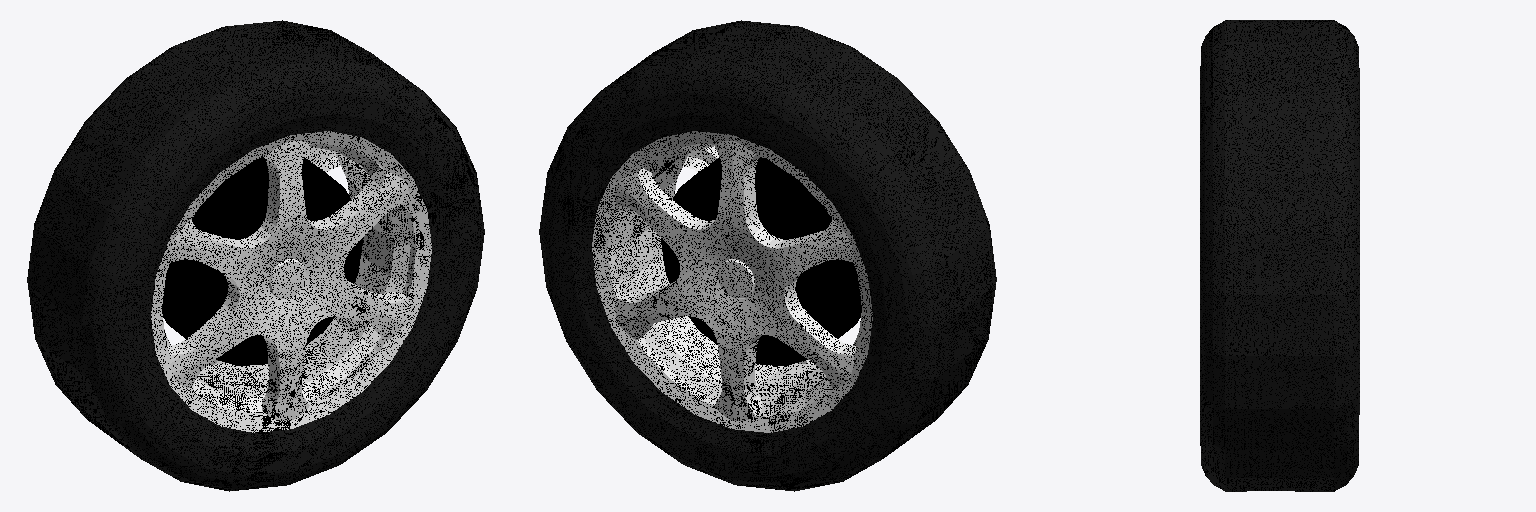
The robot description file, URDF, robot "G35":
<?xml version="1.0"?>
<robot name="G35">
  <!-- Base footprint (point on the ground directly below CG) -->
  <link name="base_footprint">
    <visual>
      <origin xyz="0 0 0" rpy="0 0 0"/>
      <geometry>
        <mesh filename="package://vehicle_model_pkg/description/body_2004_Infiniti_G35_Sedan.dae" scale="1 1 1" />
      </geometry>
    </visual>    
  </link>
  
  <!-- Left front wheel -->
  <link name="wheel_left_front">
    <visual>
      <origin xyz="0 0 0" rpy="0 0 0"/>
      <geometry>
        <mesh filename="package://vehicle_model_pkg/description/wheel_2004_Infiniti_G35_Sedan.dae" scale="1 1 1" />
      </geometry>
    </visual>    
  </link>
  <joint name="base_to_lf" type="continuous">
    <parent link="base_footprint"/>
    <child link="wheel_left_front"/>
    <origin xyz="0 0 0"/>
  </joint>

  <!-- Left rear wheel -->
  <link name="wheel_left_rear">
    <visual>
      <origin xyz="0 0 0" rpy="0 0 0"/>
      <geometry>
        <mesh filename="package://vehicle_model_pkg/description/wheel_2004_Infiniti_G35_Sedan.dae" scale="1 1 1" />
      </geometry>
    </visual>    
  </link>
  <joint name="base_to_lr" type="continuous">
    <parent link="base_footprint"/>
    <child link="wheel_left_rear"/>
    <origin xyz="0 0 0"/>
  </joint>

  <!-- Right front wheel -->
  <link name="wheel_right_front">
    <visual>
      <origin xyz="0 0 0" rpy="0 0 3.141"/>
      <geometry>
        <mesh filename="package://vehicle_model_pkg/description/wheel_2004_Infiniti_G35_Sedan.dae" scale="1 1 1" />
      </geometry>
    </visual>    
  </link>
  <joint name="base_to_rf" type="continuous">
    <parent link="base_footprint"/>
    <child link="wheel_right_front"/>
    <origin xyz="0 0 0"/>
  </joint>

  <!-- Right rear wheel -->
  <link name="wheel_right_rear">
    <visual>
      <origin xyz="0 0 0" rpy="0 0 3.141"/>
      <geometry>
        <mesh filename="package://vehicle_model_pkg/description/wheel_2004_Infiniti_G35_Sedan.dae" scale="1 1 1" />
      </geometry>
    </visual>    
  </link>
  <joint name="base_to_rr" type="continuous">
    <parent link="base_footprint"/>
    <child link="wheel_right_rear"/>
    <origin xyz="0 0 0"/>
  </joint>

</robot>

--- Render facts (derived) ---
The picture shows the robot from 3 angles, left to right: view 1: azimuth 30°, elevation 25°; view 2: azimuth 150°, elevation 25°; view 3: azimuth 270°, elevation 25°; orthographic projection.
Model G35 with 5 links and 4 joints (4 continuous), rooted at base_footprint, posed every joint at zero.
Visible links, largest first — view 1: wheel_left_front, wheel_right_front; view 2: wheel_right_front, wheel_left_front; view 3: wheel_right_front, wheel_left_front.
Boxes of the visible links, bbox=[...] form: wheel_left_front: bbox=[27, 26, 484, 491]; wheel_right_front: bbox=[27, 20, 482, 486]; wheel_right_front: bbox=[539, 26, 995, 491]; wheel_left_front: bbox=[539, 20, 996, 488]; wheel_right_front: bbox=[1217, 20, 1359, 491]; wheel_left_front: bbox=[1200, 20, 1341, 491].
Size in the robot's own frame: 0.6889 by 0.2318 by 0.6888 metres.
4 mesh visuals loaded from 2 distinct referenced files (1 Collada DAE); not drawn: 1 (reference not matched to a file when rendering).